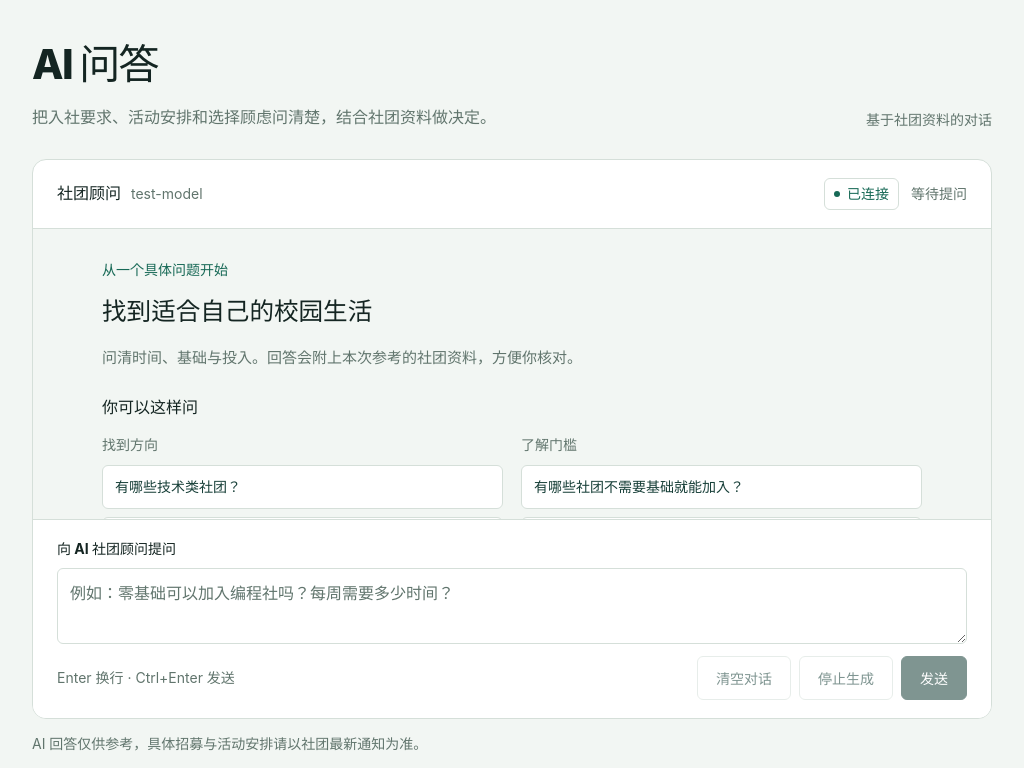
Scenario: Chat decision workspace › marks a failed stream transport offline and reconnects without losing partial content or the draft
The width and height of the screenshot is (1024, 768).
Click the button "有哪些技术类社团？" at (178, 486), box [102,465,503,509]
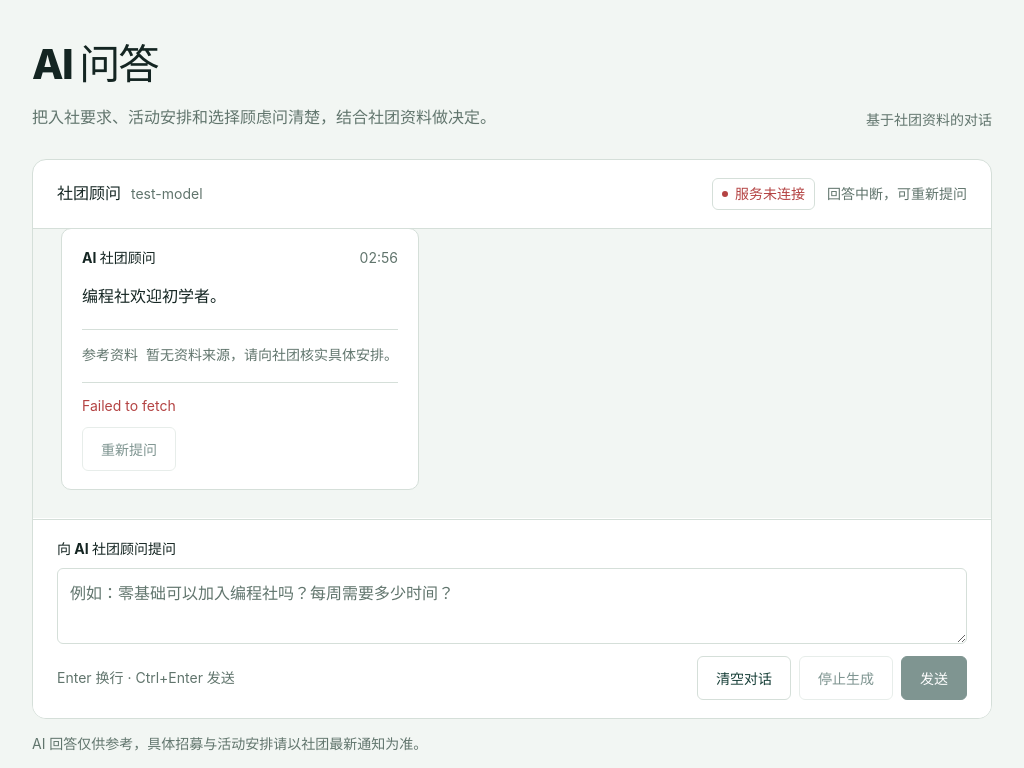
Check: the text "已连接" is gone
Check: the text "服务未连接" is shown, box [712,178,815,210]
Check: the element with class "assistant" shows "编程社欢迎初学者。", box [82,286,226,306]
Type "保留断线后的草稿" into the text box labelled "向 AI 社团顾问提问" at (512, 606), box [57,568,967,644]
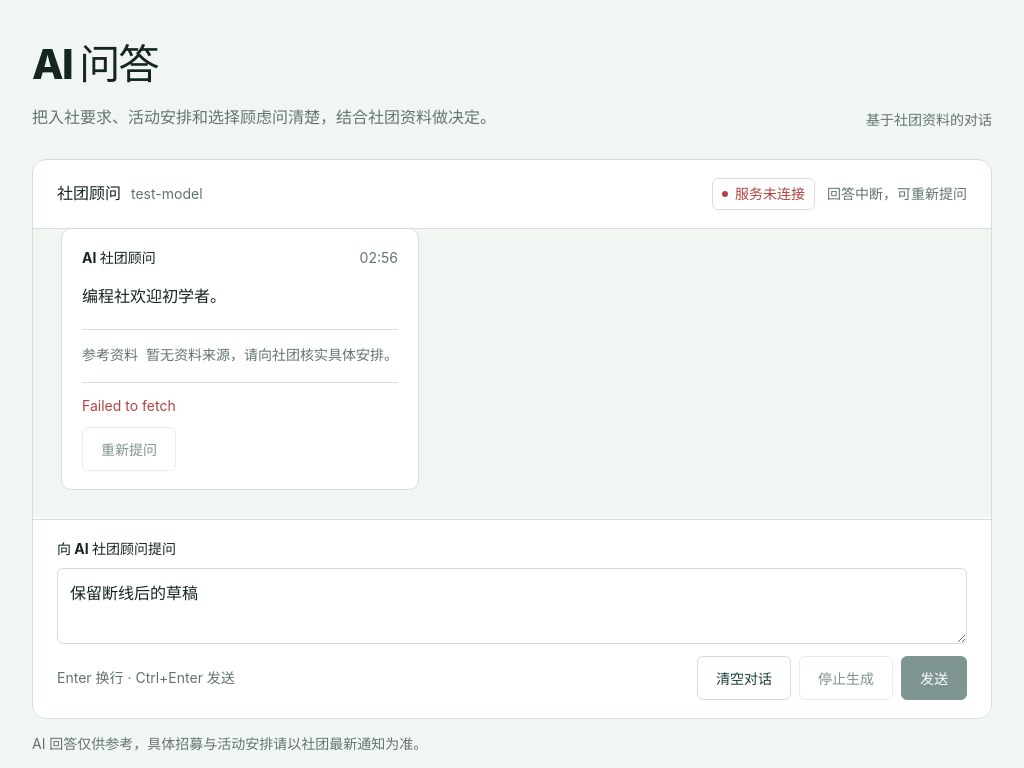
Check: the submit button is disabled, box [901,656,967,700]
Check: the button "重新提问" is disabled, box [82,427,176,471]
Submit the form, box [33,519,991,718]
(page scrolled)
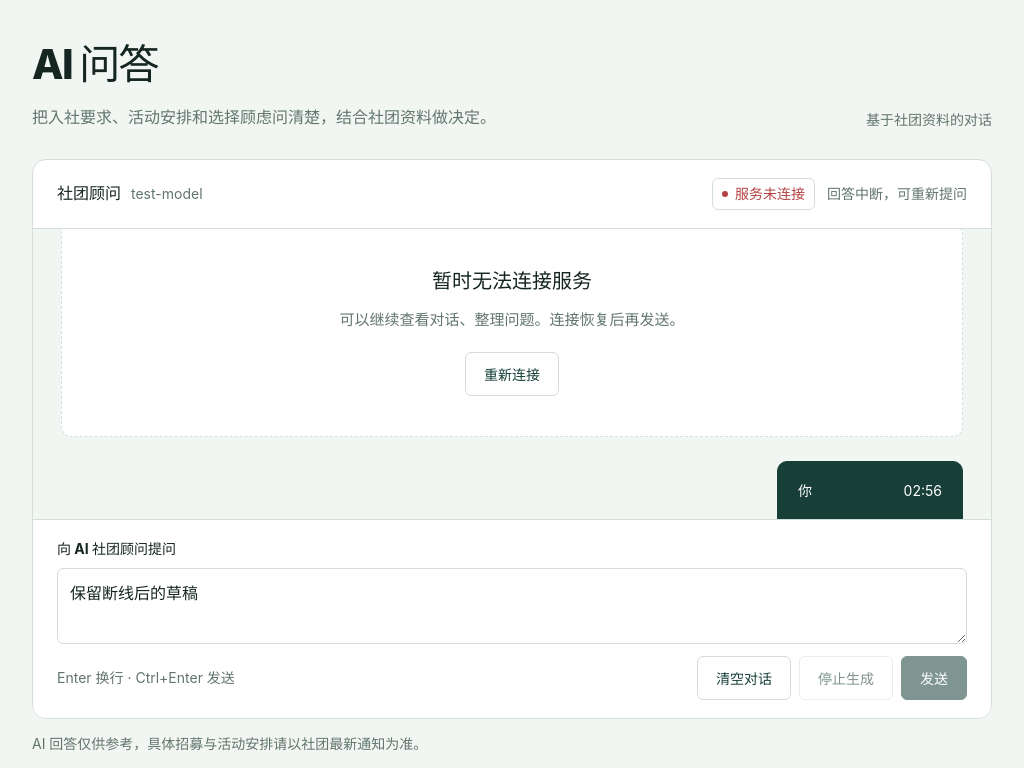
Click the button "重新连接" at (512, 374), box [465,352,559,396]
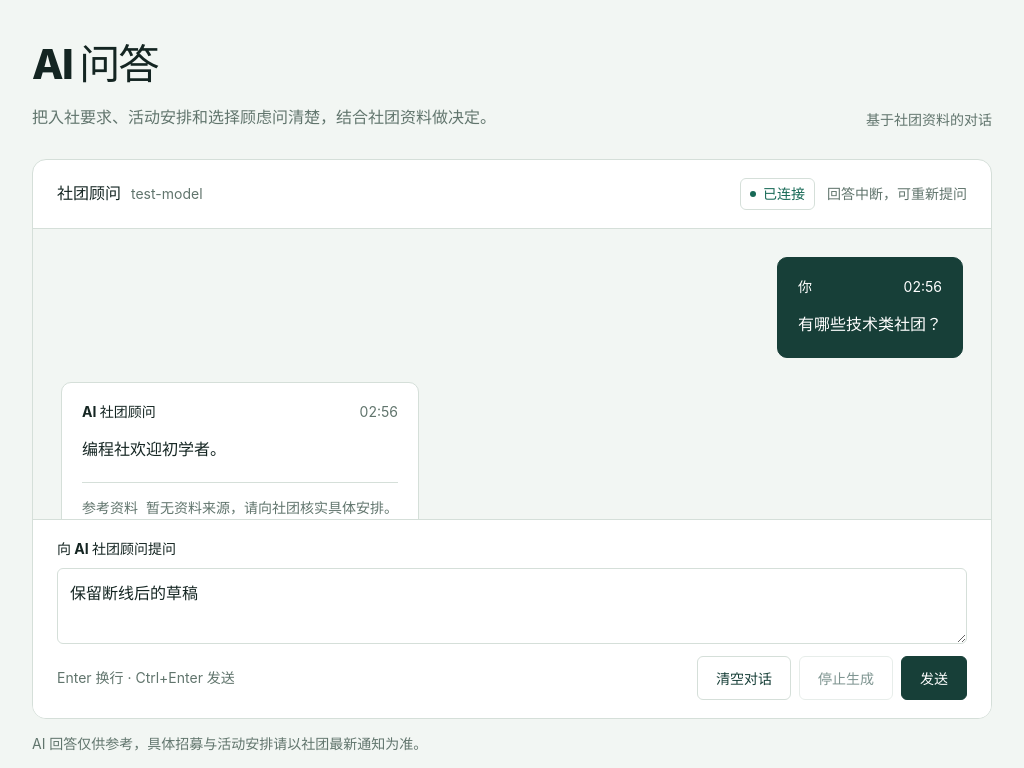
Check: the text "已连接" is shown, box [740,178,815,210]
Check: the submit button is enabled, box [901,656,967,700]
Check: the text "编程社欢迎初学者。" is shown, box [82,439,226,459]
